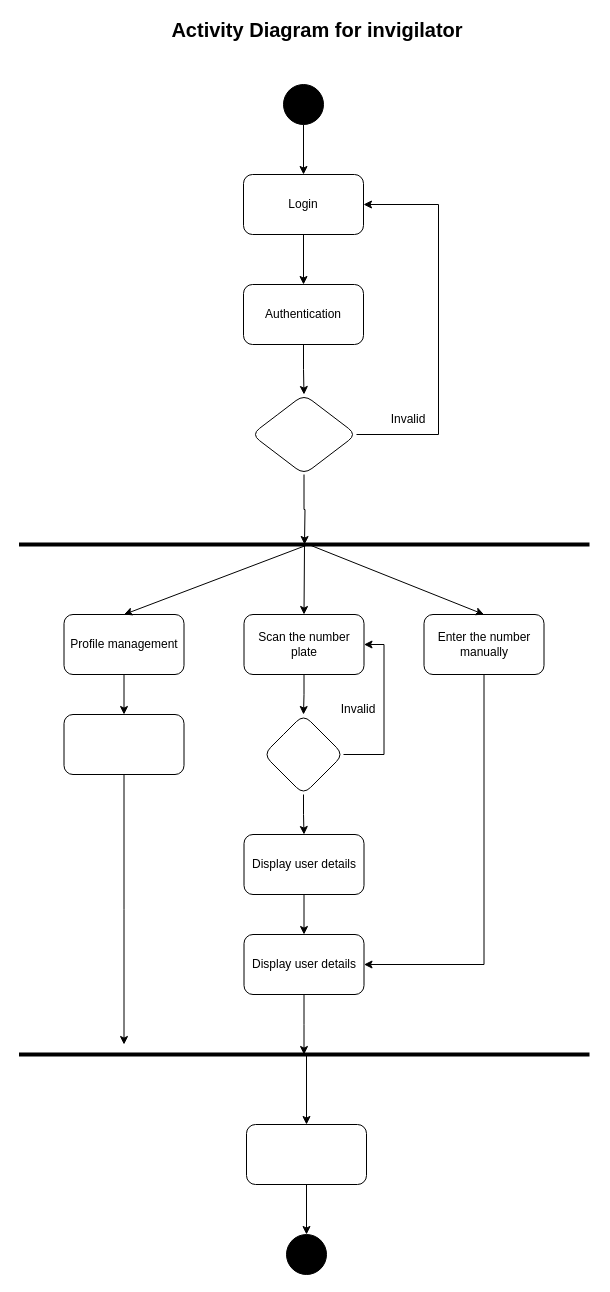
This 610x1292 diagram has some shape labels left out. The centre of each missing label's shape, as x and y in pixels:
Add/edit/delete profile details: [123,744]
Check: [303,434]
Logout: [306,1154]
Verify user: [303,754]
